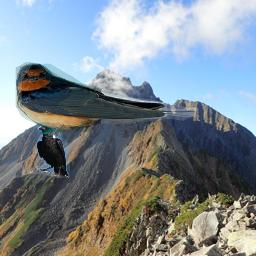Crow: (36, 124, 70, 178)
Swallow: (12, 60, 196, 134)
